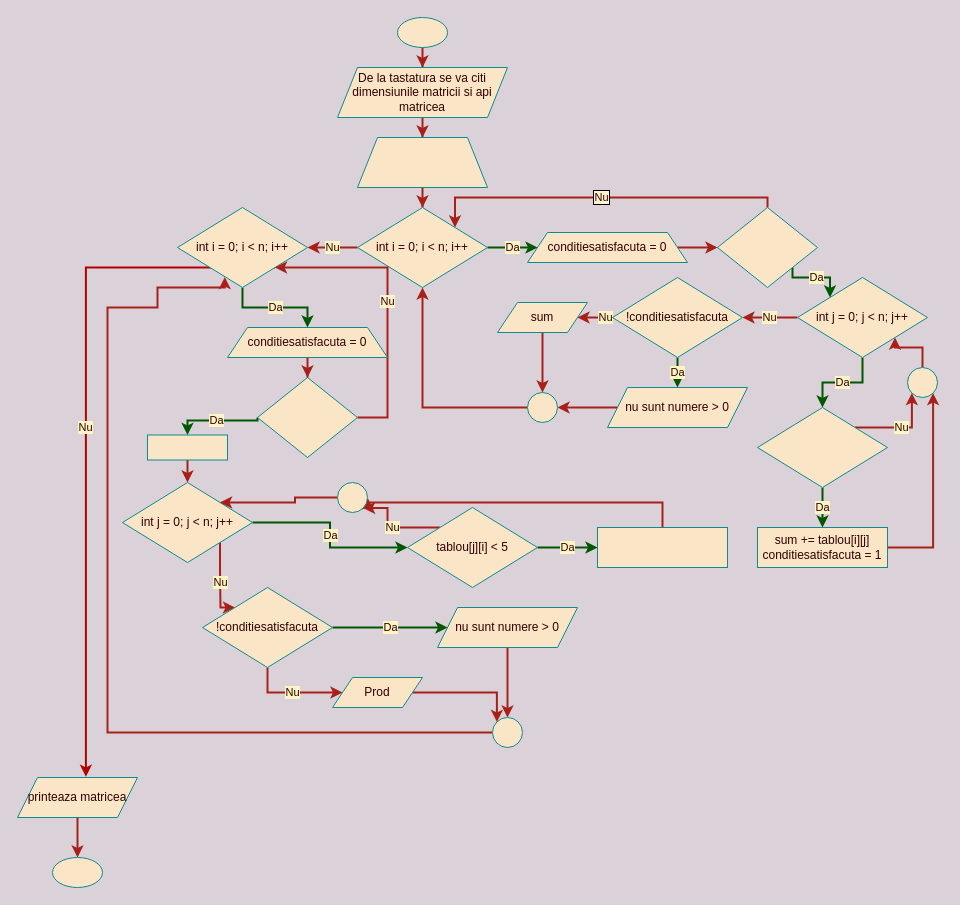
Image size: 960x905. Some labels were removed from this diagram. Here are the shapes that lost their labels. From the top down, the box of each, then its label:
(396, 16, 448, 48): Start
(356, 136, 488, 188): int n,m int tablou[n][m]
(716, 206, 818, 288): (i+1)%2==0
(256, 376, 358, 458): (i+1)%2==1
(146, 434, 228, 460): int prod = 1
(756, 406, 888, 488): tablou[i][j] > 0
(596, 526, 728, 568): prod *= tablou[i][j] conditiesatisfacuta = 1
(52, 856, 102, 888): Sfarsit
